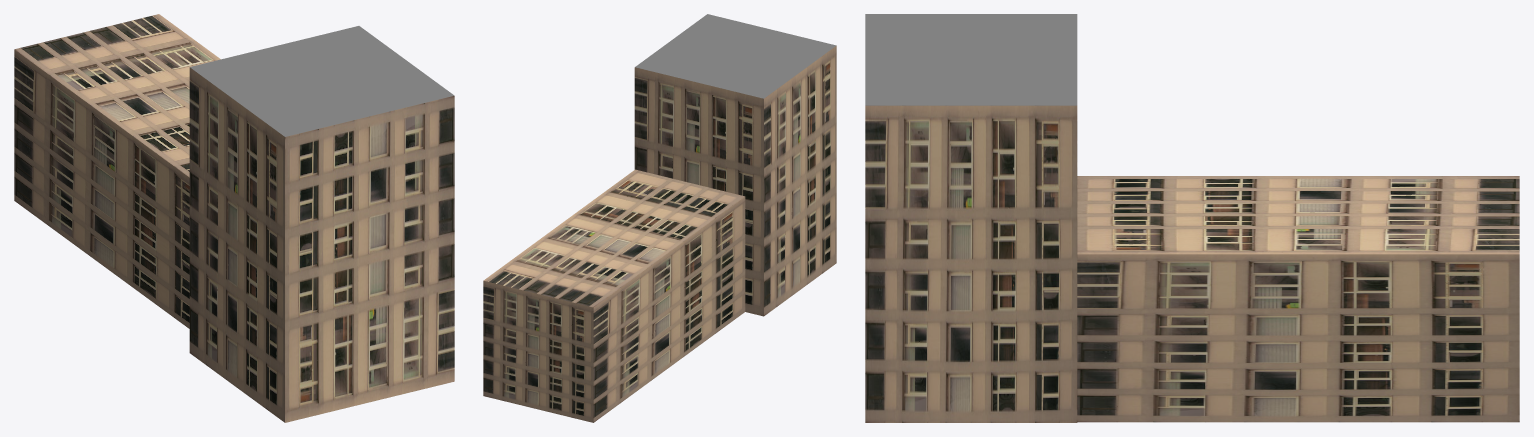
Rendered from Tillet.glb.
3 views of the same model, side by side, from view 1: azimuth 30°, elevation 25°; view 2: azimuth 150°, elevation 25°; view 3: azimuth 270°, elevation 25° (orthographic). The views are drawn at different scales.
Parts seen in each view (by area): view 1: Cube, Cube.001; view 2: Cube.001, Cube; view 3: Cube.001, Cube.
Part boxes in pixels (<box>): Cube: <box>189,26,454,422</box>; Cube.001: <box>14,14,220,328</box>; Cube.001: <box>483,169,745,422</box>; Cube: <box>634,14,836,316</box>; Cube.001: <box>1077,176,1519,422</box>; Cube: <box>865,14,1077,422</box>.
Bounding box in the file's own units: 11.33 × 18.26 × 34.14.
Materials: 3 (2 with a texture image).
